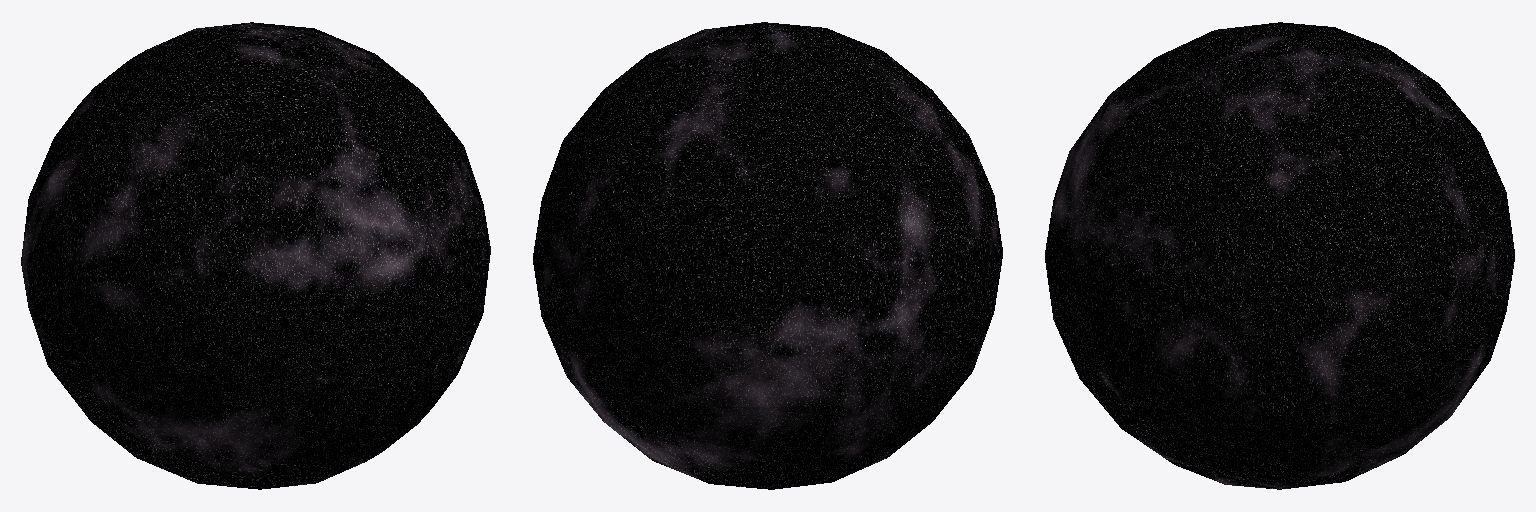
3 renders of one model, left to right at view 1: azimuth 30°, elevation 25°; view 2: azimuth 150°, elevation 25°; view 3: azimuth 270°, elevation 25°, orthographic.
Bounding box in the file's own units: 798 × 798 × 798.
1 materials, 1 textured.